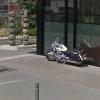Motorcycle: (40, 41, 94, 72)
